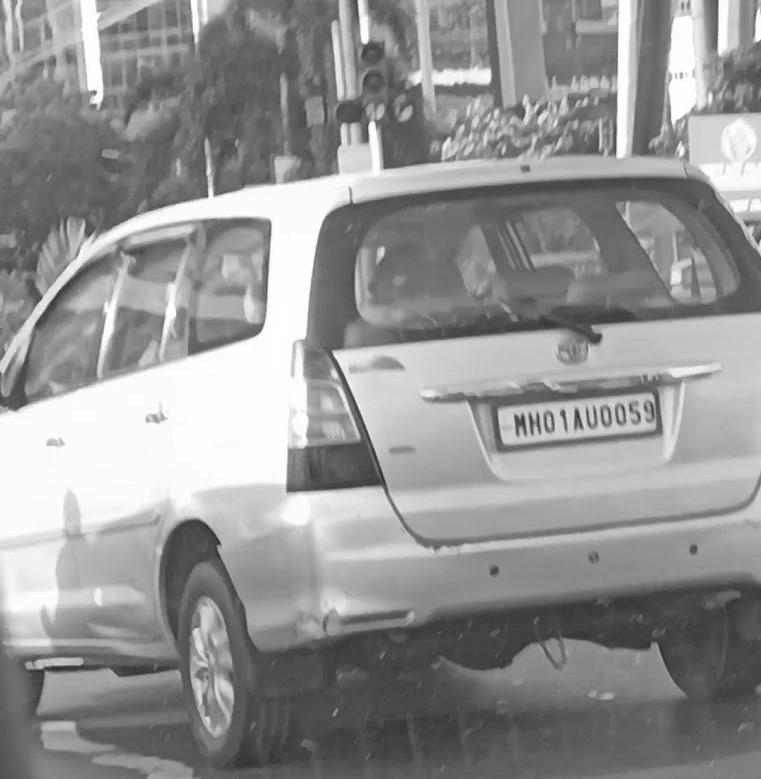number_plate: (500, 400, 661, 436)
